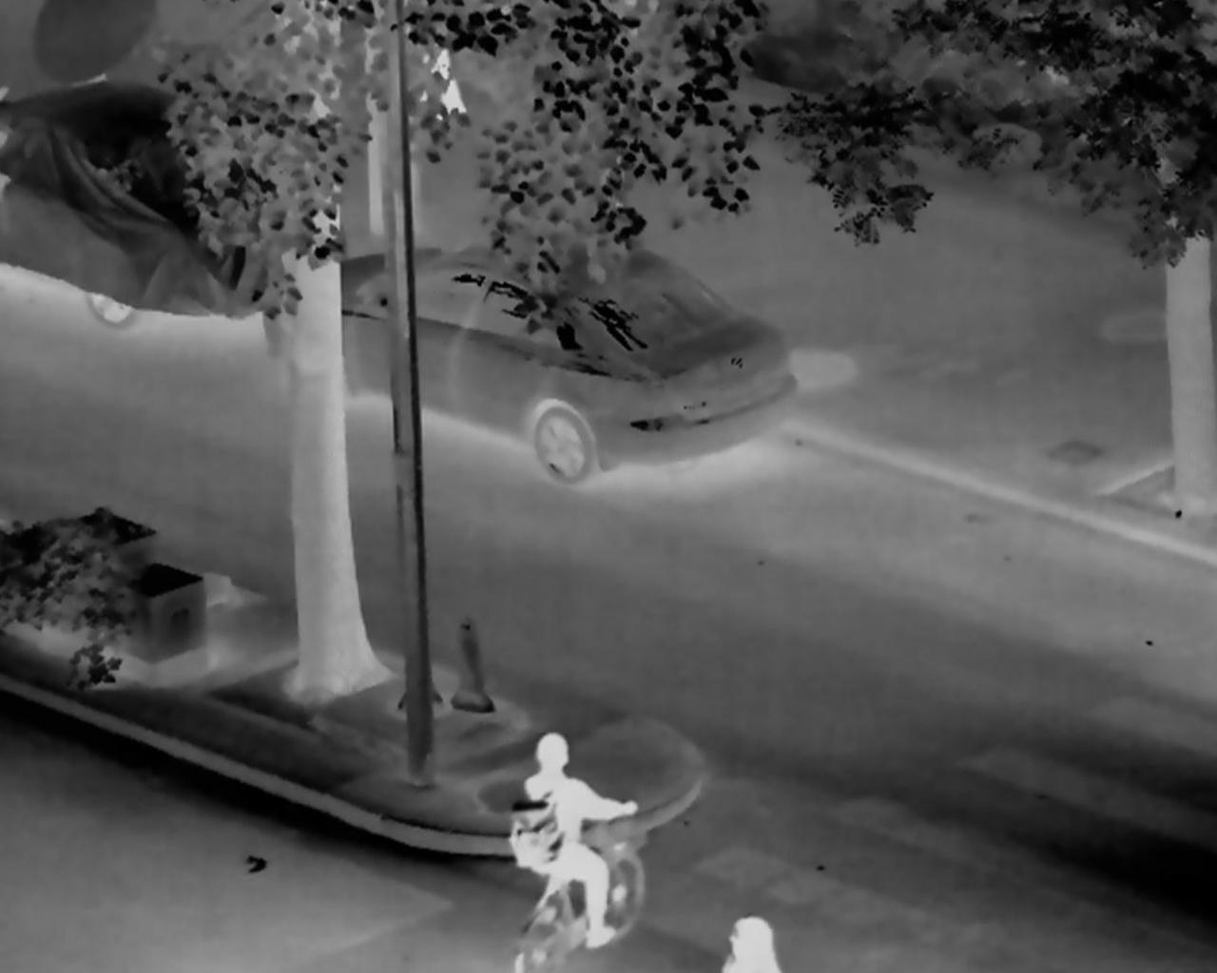person: (511, 731, 640, 950), (716, 914, 777, 973)
